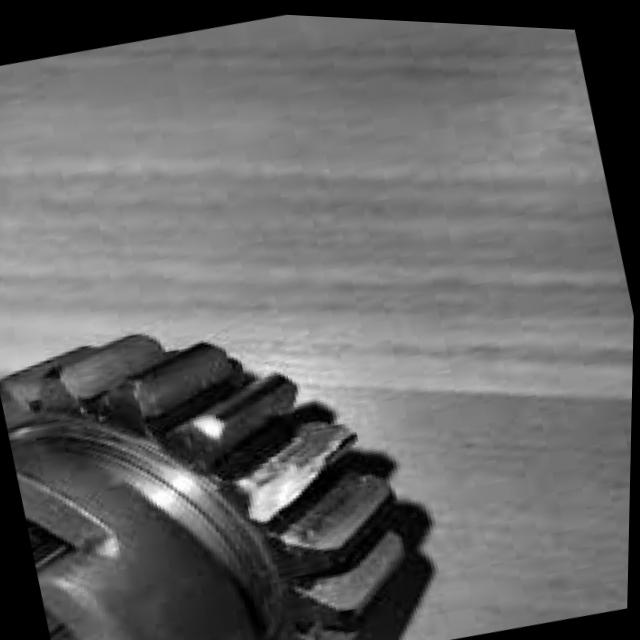Fault-Exist: (137, 294, 444, 608)
